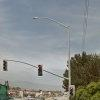Traffic light: (2, 54, 46, 81)
